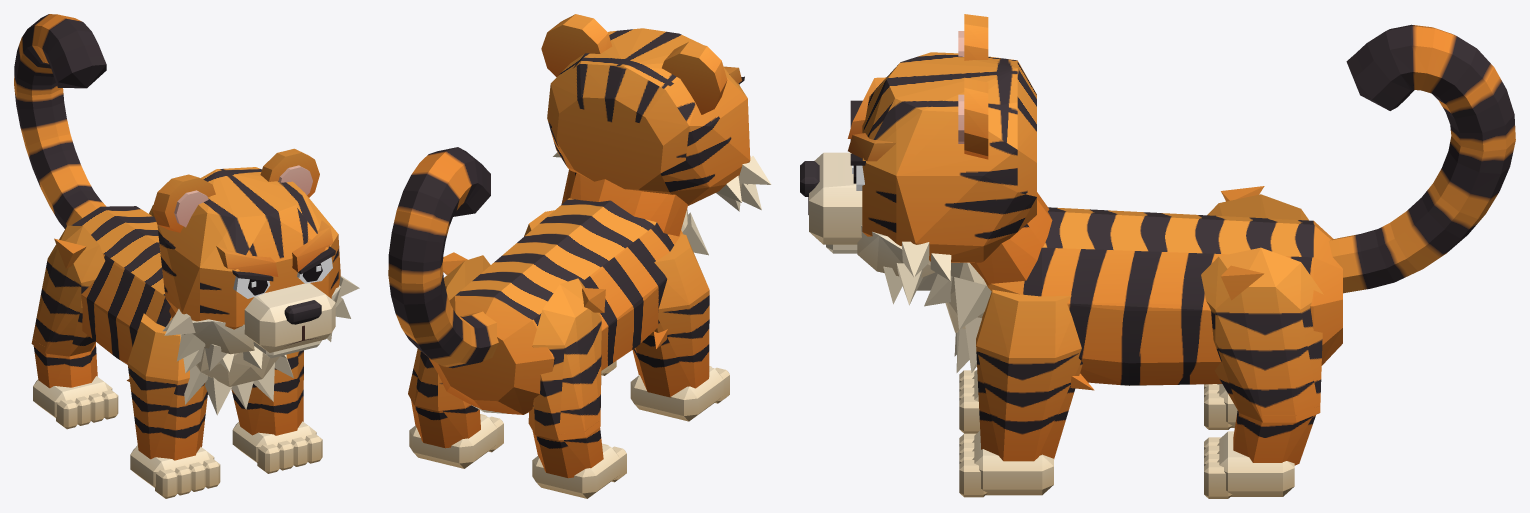
File: thunder_tiger.glb
3 views of the same model, side by side, from view 1: azimuth 30°, elevation 25°; view 2: azimuth 150°, elevation 25°; view 3: azimuth 270°, elevation 25° (orthographic). The views are drawn at different scales.
Parts seen in each view (by area): view 1: ThunderTiger; view 2: ThunderTiger; view 3: ThunderTiger.
Boxes of the visible parts, x1,y1,x2,y2 form: ThunderTiger: (14,14,359,498); ThunderTiger: (388,14,771,498); ThunderTiger: (800,14,1515,498).
Bounding box in the file's own units: 0.5926 × 0.9627 × 1.47.
Materials: 1 (1 with a texture image).
